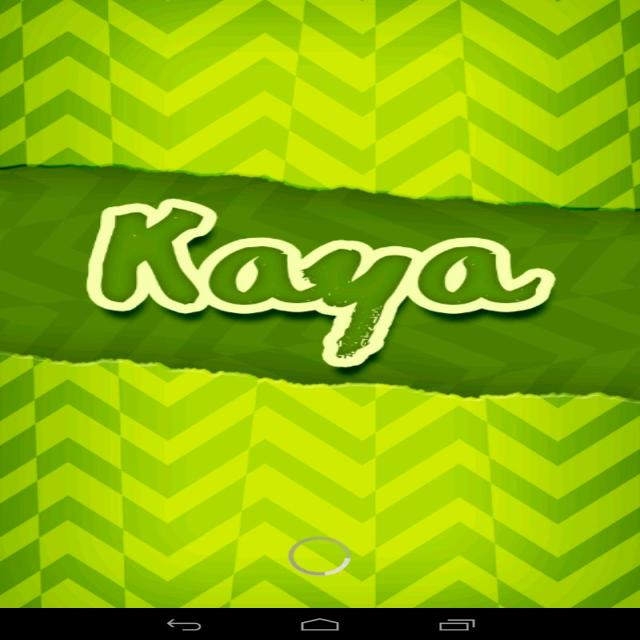image: (1, 0, 640, 605)
text: (76, 198, 558, 375)
